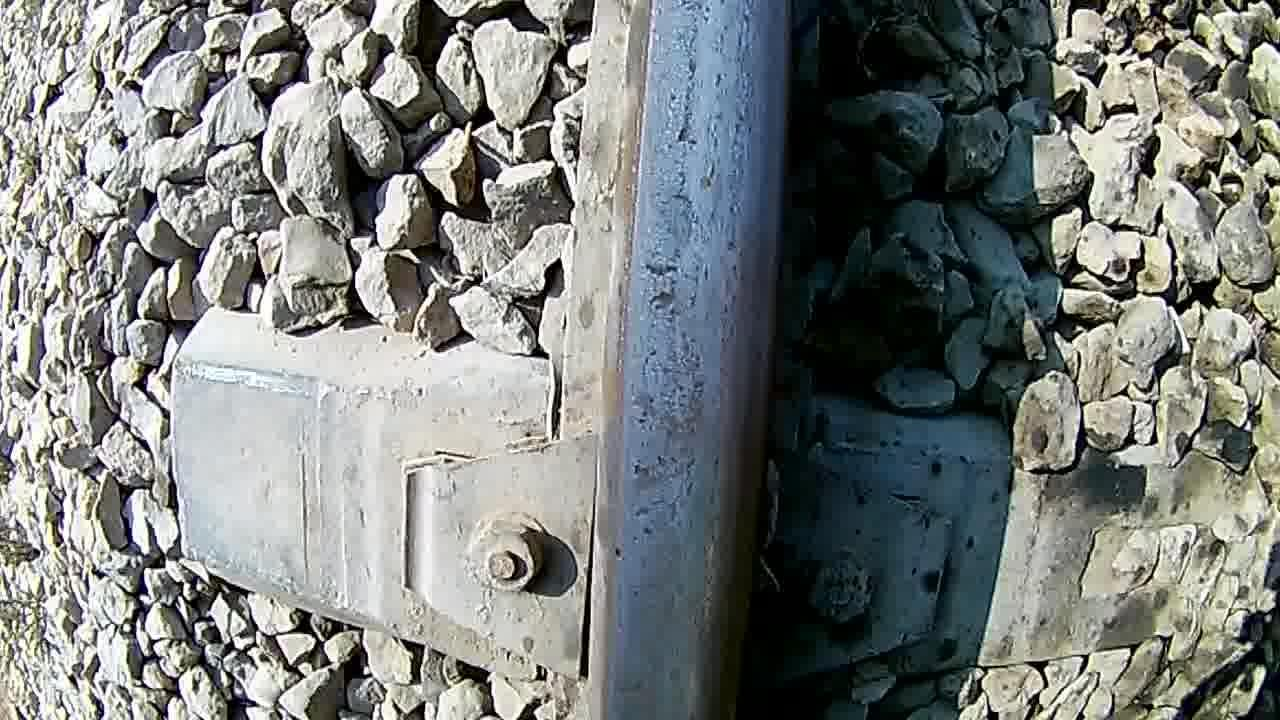crack: (634, 1, 752, 720)
